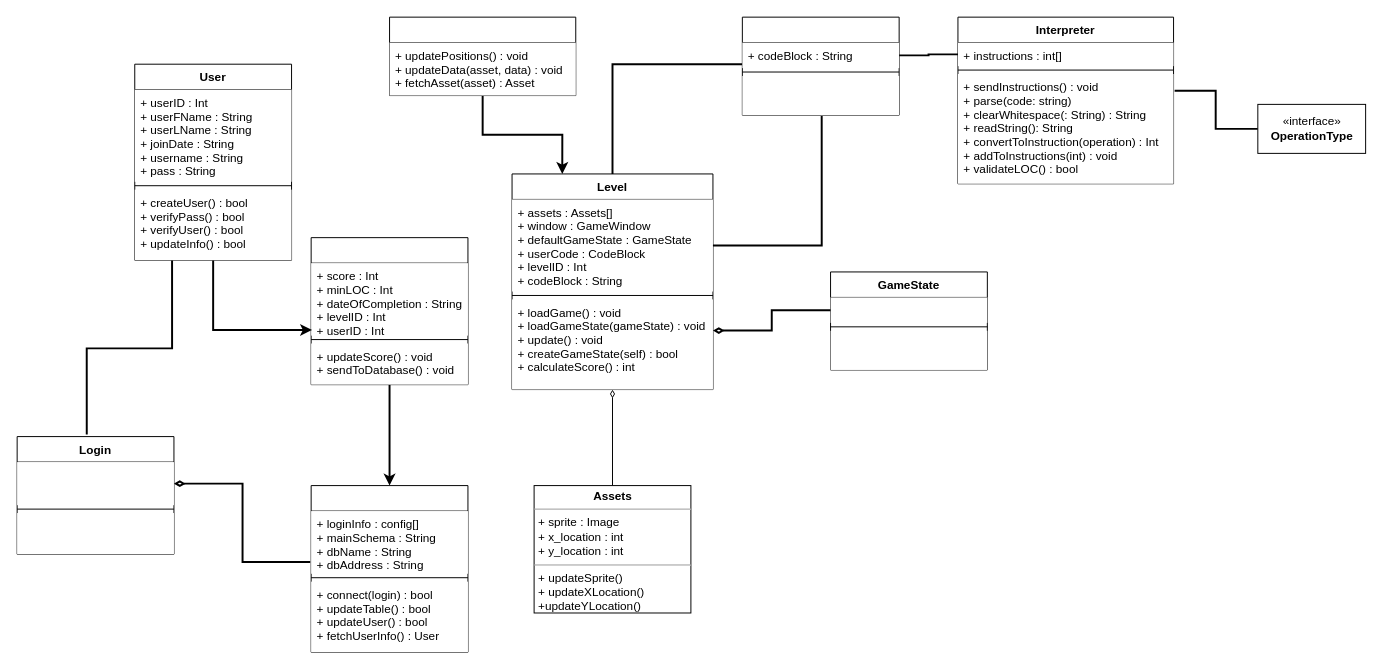
This 1383x672 diagram has some shape labels left out. Here are the shapes that lost their labels. From the top down, the box of each, then its label:
(389, 16, 576, 96): GameWindow
(741, 16, 899, 115): Executor
(742, 75, 899, 115): + fetchCodeBlock() : String + execute() : void
(310, 237, 468, 385): UserLevelInfo
(830, 297, 987, 322): + assetList : Assets[]
(830, 330, 987, 369): + updateGameState() : void +createGameState() : void
(17, 462, 173, 505): + inputUsername : String + inputPass : String
(17, 513, 173, 554): + validateUsername() + validatePassword()
(310, 485, 468, 652): DB_Connection
